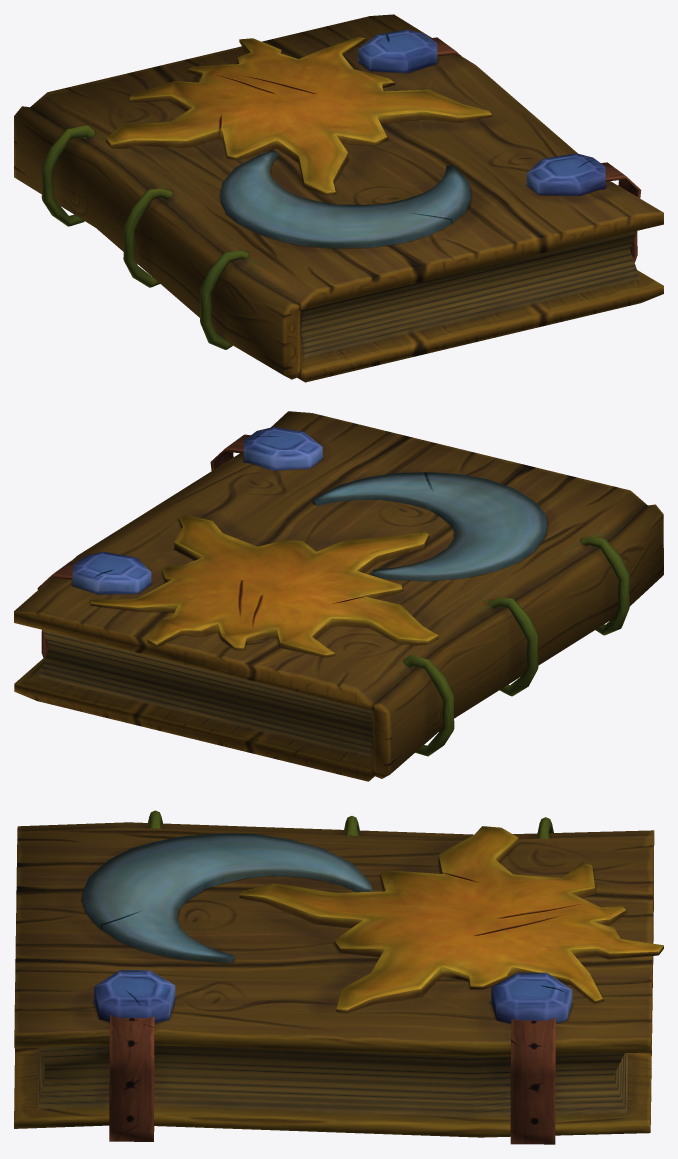
Rendered from book.fbx.
3 renders of one model, top to bottom at view 1: azimuth 30°, elevation 25°; view 2: azimuth 150°, elevation 25°; view 3: azimuth 270°, elevation 25°, orthographic. The views are drawn at different scales.
Visible parts, largest first — view 1: book; view 2: book; view 3: book.
Boxes of the visible parts, <box> form: book: <box>14,14,663,382</box>; book: <box>14,411,663,781</box>; book: <box>14,810,663,1144</box>.
Size of the model in its own units: 142 by 37.06 by 162.
